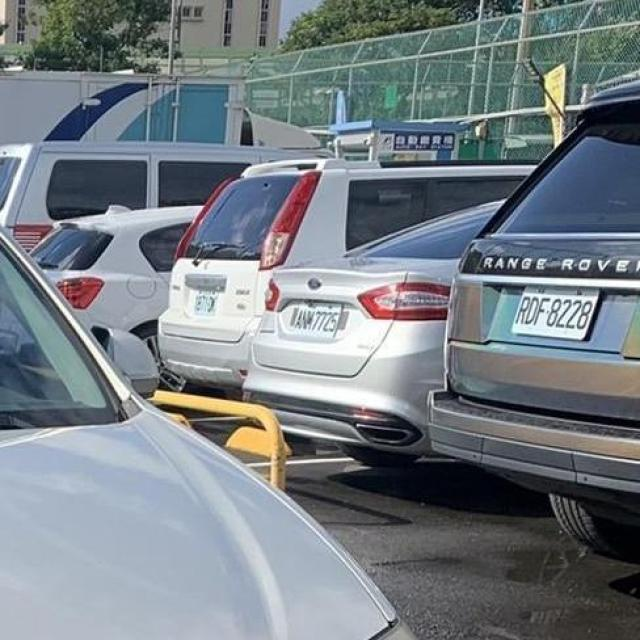W: (508, 279, 604, 344), (289, 295, 346, 340)
